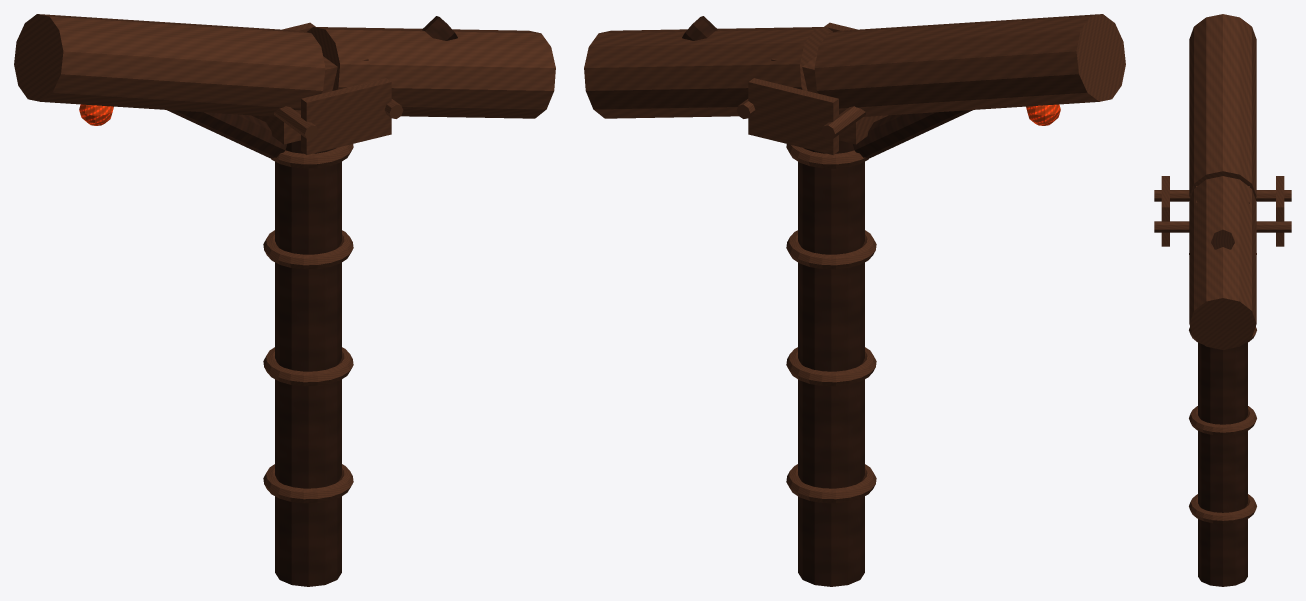
Rendered from underworld-tool-slag-pick.glb.
3 renders of one model, left to right at view 1: azimuth 30°, elevation 25°; view 2: azimuth 150°, elevation 25°; view 3: azimuth 270°, elevation 25°, orthographic. The views are drawn at different scales.
Parts seen in each view (by area): view 1: pick-left, charred-haft, pick-right, head-cheek--1, root-head-brace--1, grip-band-0.33, grip-band--0.25, grip-band-0.04, grip-band-0.58, pick-eye, head-pin--0.11; view 2: pick-left, charred-haft, pick-right, head-cheek-1, root-head-brace--1, grip-band-0.33, grip-band--0.25, grip-band-0.04, grip-band-0.58, pick-eye, head-pin--0.11; view 3: pick-left, charred-haft, pick-right, grip-band-0.04, grip-band--0.25, head-pin-0.11, head-pin--0.11, head-cheek--1, head-cheek-1, root-head-brace-1.
Part boxes in pixels (x1,y1,x2,y2): pick-left: [14, 14, 325, 116]; charred-haft: [275, 140, 341, 586]; pick-right: [307, 27, 555, 118]; head-cheek--1: [301, 78, 391, 154]; root-head-brace--1: [167, 110, 286, 158]; grip-band-0.33: [263, 230, 353, 269]; grip-band--0.25: [263, 464, 353, 503]; grip-band-0.04: [263, 347, 353, 386]; grip-band-0.58: [271, 144, 353, 168]; pick-eye: [251, 56, 368, 144]; head-pin--0.11: [274, 106, 318, 139]; pick-left: [814, 14, 1125, 116]; charred-haft: [798, 140, 864, 586]; pick-right: [584, 27, 832, 118]; head-cheek-1: [748, 78, 838, 154]; root-head-brace--1: [853, 110, 972, 158]; grip-band-0.33: [786, 230, 876, 269]; grip-band--0.25: [786, 464, 876, 503]; grip-band-0.04: [786, 347, 876, 386]; grip-band-0.58: [786, 144, 868, 168]; pick-eye: [771, 56, 888, 144]; head-pin--0.11: [821, 106, 865, 139]; pick-left: [1189, 14, 1256, 198]; charred-haft: [1198, 342, 1247, 586]; pick-right: [1189, 176, 1256, 349]; grip-band-0.04: [1189, 406, 1256, 435]; grip-band--0.25: [1189, 494, 1256, 523]; head-pin-0.11: [1154, 221, 1291, 232]; head-pin--0.11: [1154, 190, 1291, 201]; head-cheek--1: [1161, 176, 1169, 246]; head-cheek-1: [1276, 176, 1284, 246]; root-head-brace-1: [1211, 229, 1234, 249].
Bounding box in the file's own units: 1.33 × 1.54 × 0.41.
Materials: 3 (3 with a texture image).
